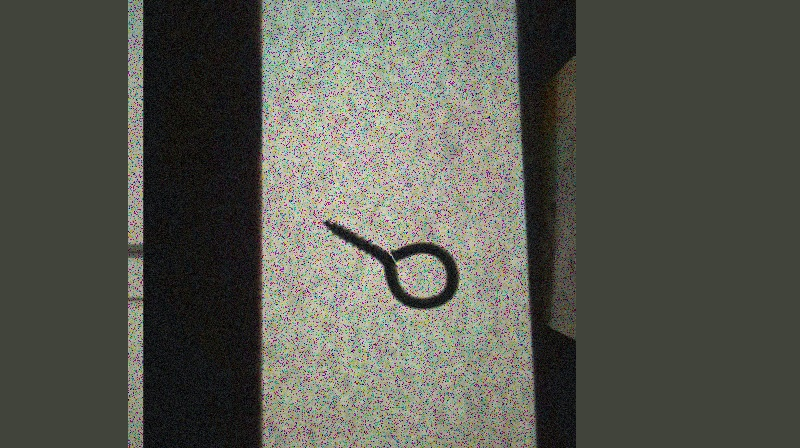O001: (320, 214, 460, 314)
